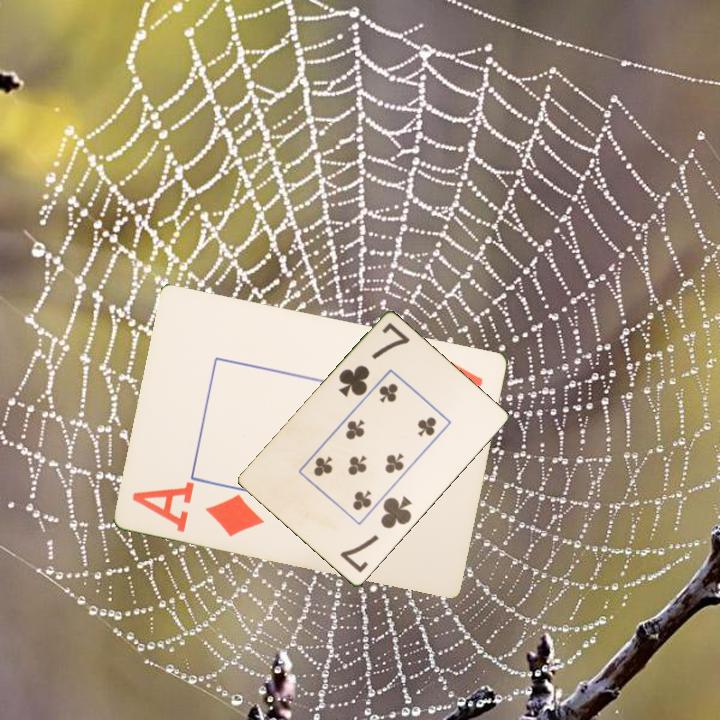7c: (336, 493, 415, 576), (335, 319, 413, 401)
Ad: (129, 480, 268, 539)
